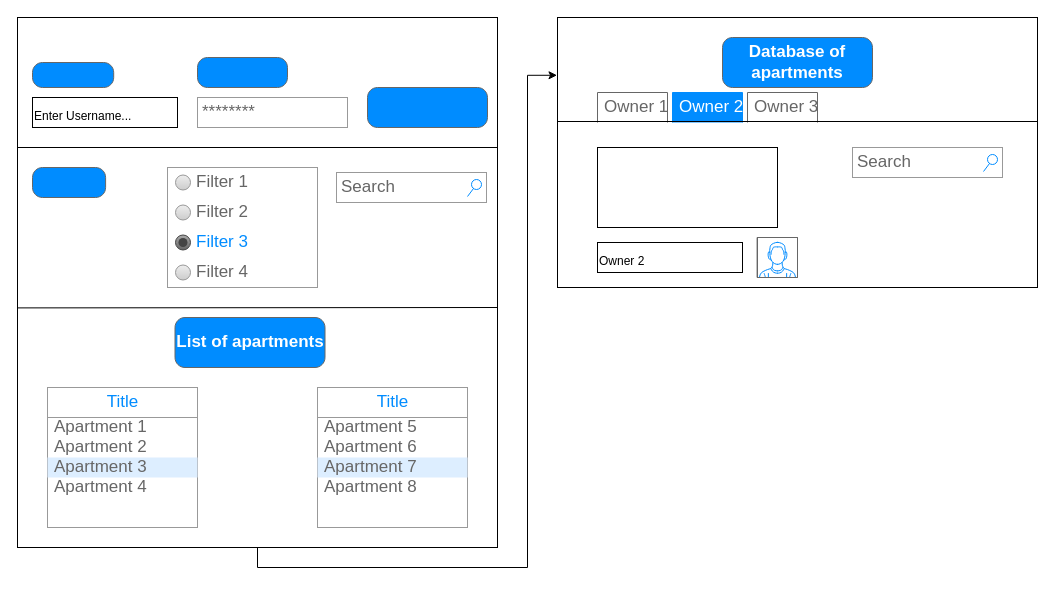
Some shapes in this 1056 by 593 pixel diagram are drawn without their labels. The centre of each missing label's shape, as x and y in pixels:
Apartment Owner Apartment 1 Owner 2 Apartment 2 Owner 2: (687,187)
Filter: (69,182)
Login: (427,107)
Password: (242,72)
Username: (73,75)
